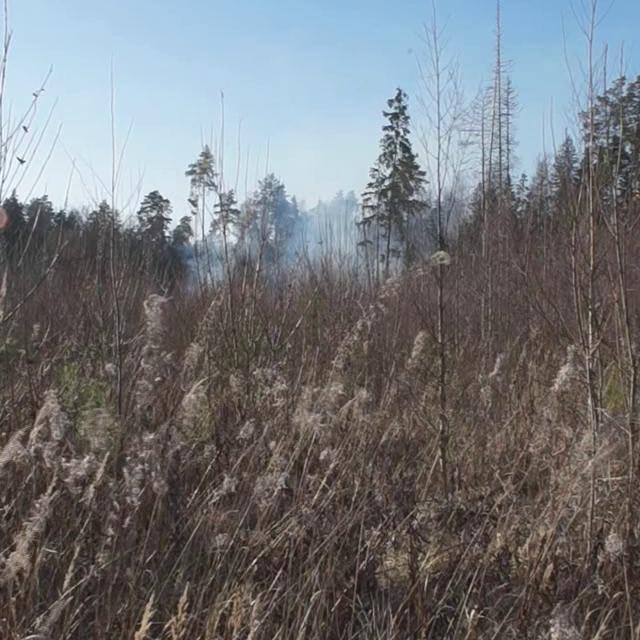Smoke: (170, 146, 493, 304)
